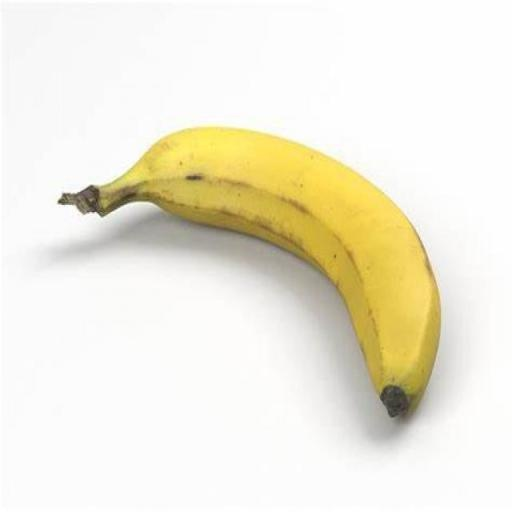fruit: (60, 128, 439, 415)
